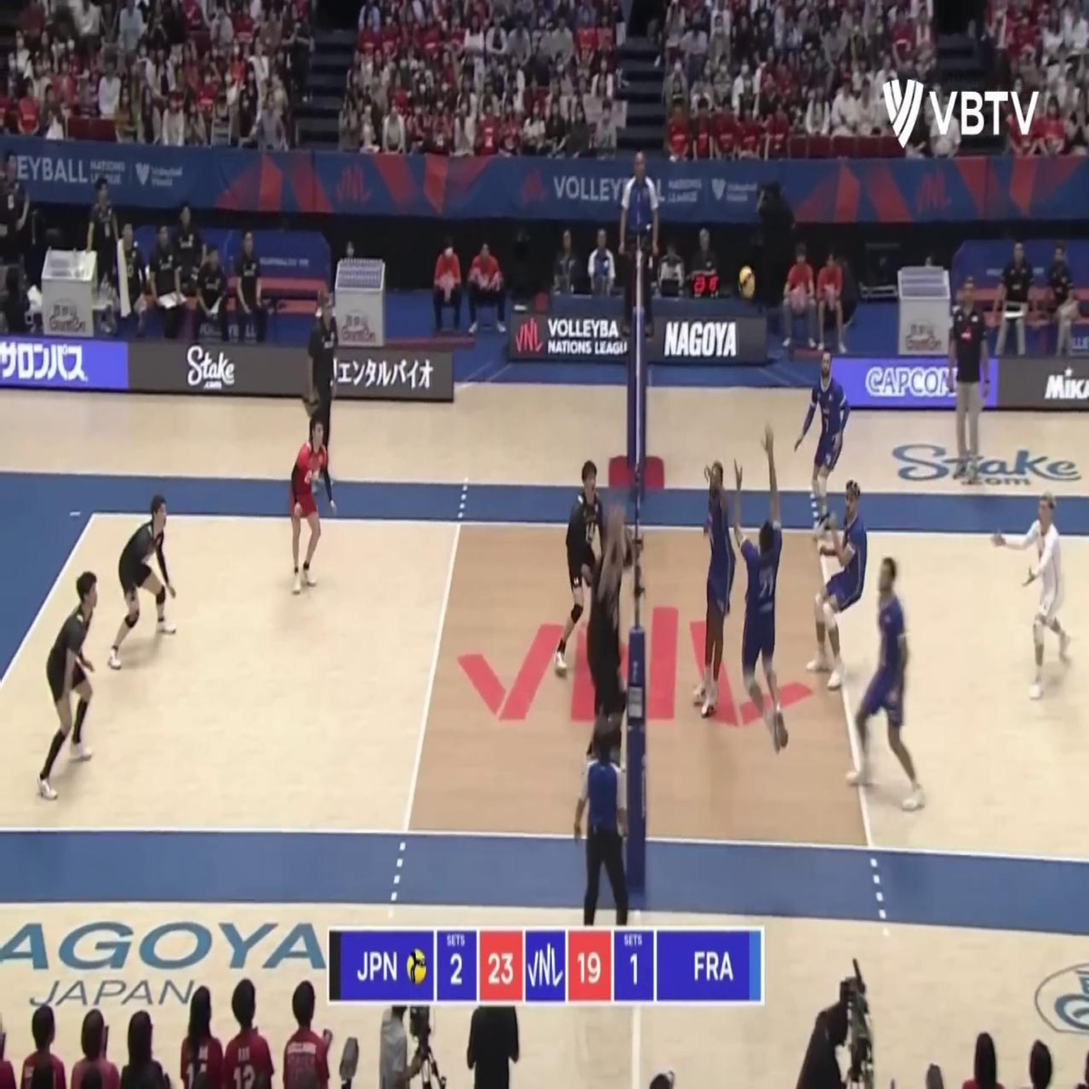ball: (736, 267, 754, 298)
